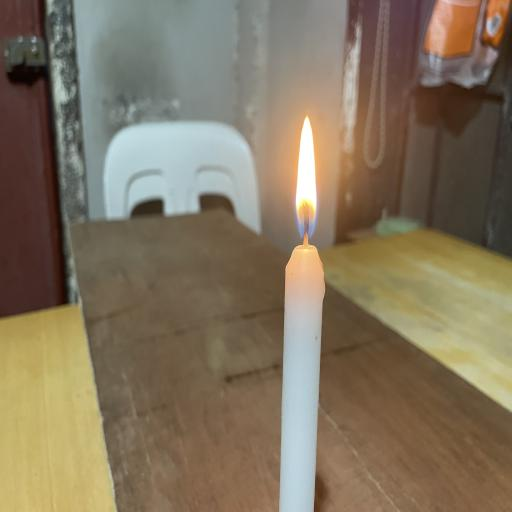fire: (274, 102, 326, 254)
